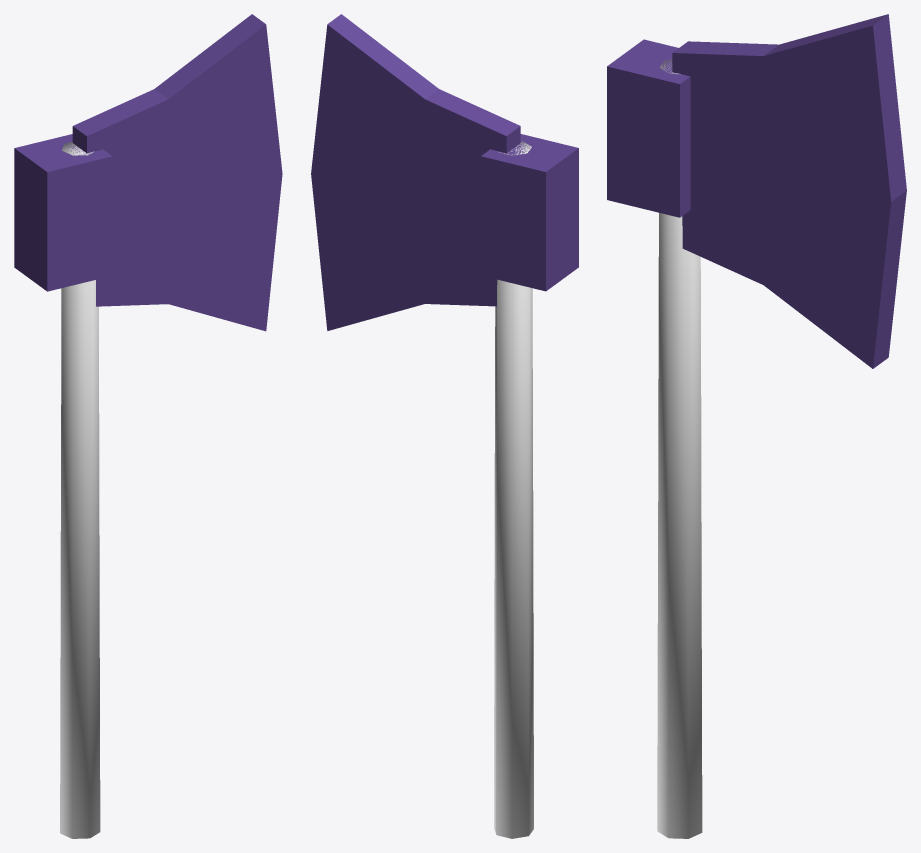
File: umbrite_axe.glb
3 views of the same model, side by side, from view 1: azimuth 30°, elevation 25°; view 2: azimuth 150°, elevation 25°; view 3: azimuth 330°, elevation 25° (orthographic). The views are drawn at different scales.
Visible parts, largest first — view 1: umbrite_axe_v0; view 2: umbrite_axe_v0; view 3: umbrite_axe_v0.
Boxes of the visible parts, x1=… form: umbrite_axe_v0: x1=14, y1=14, x2=282, y2=838; umbrite_axe_v0: x1=311, y1=14, x2=578, y2=838; umbrite_axe_v0: x1=607, y1=14, x2=906, y2=838.
Size of the model in its own units: 0.3 by 0.9 by 0.07.
